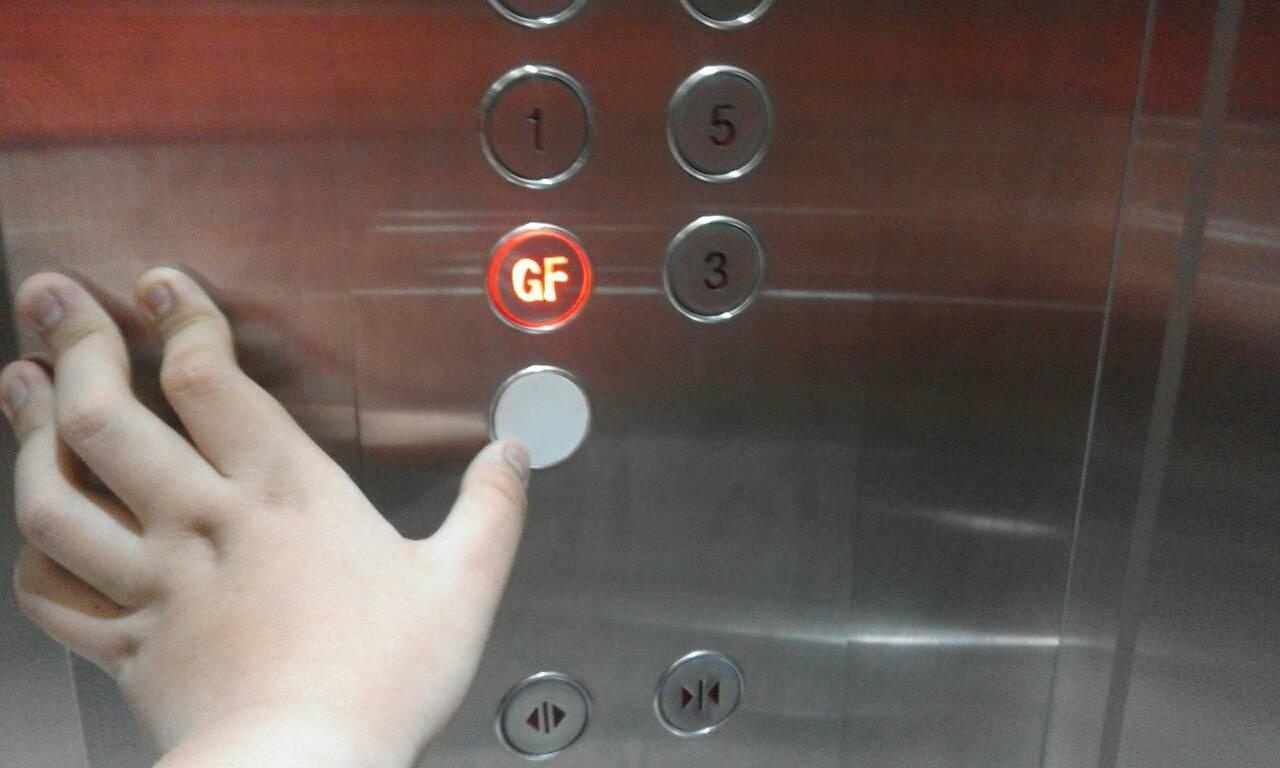1: (478, 62, 600, 195)
3: (657, 213, 771, 325)
5: (665, 60, 776, 188)
GF: (486, 219, 600, 344)
close: (655, 648, 747, 740)
empty: (490, 362, 594, 476)
open: (488, 668, 600, 764)
